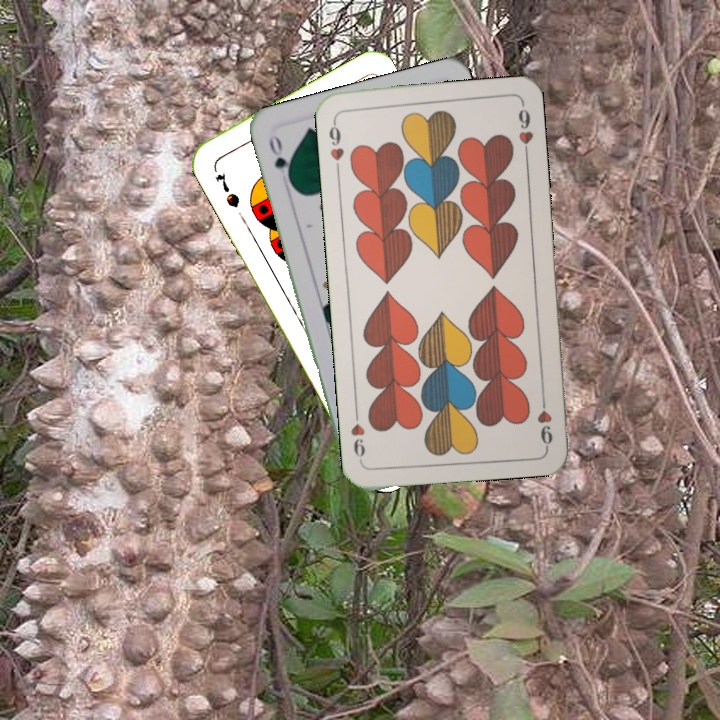GO: (265, 130, 295, 189)
H9: (324, 115, 347, 174), (533, 390, 555, 449)
S7: (211, 169, 243, 211)
